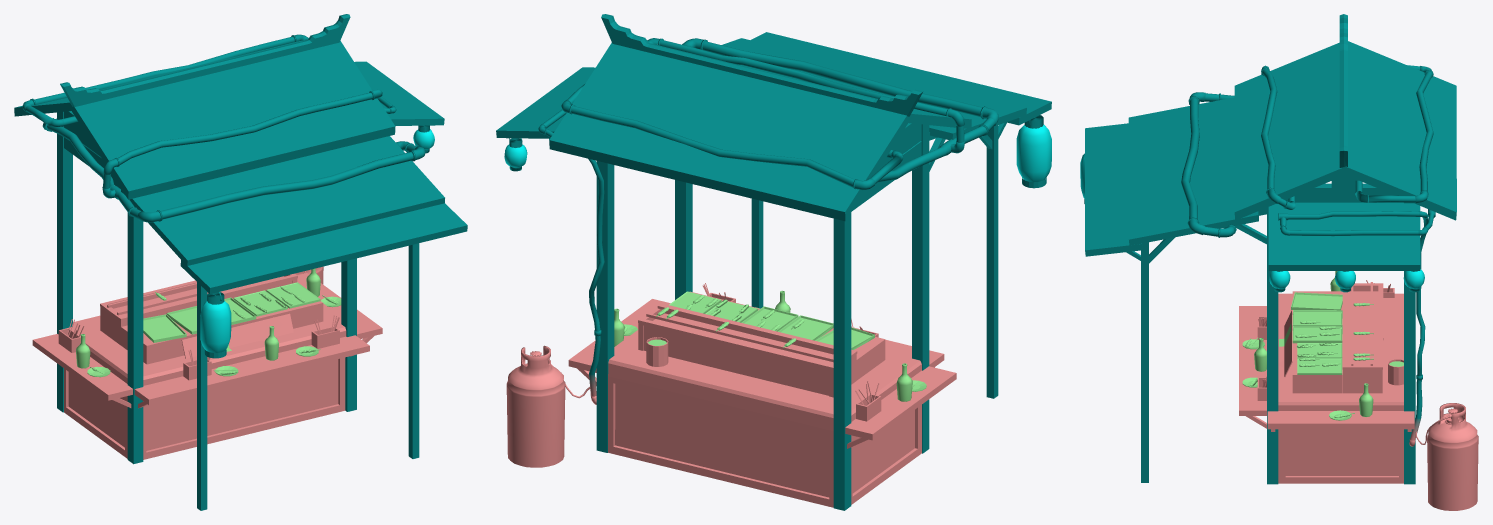
The model's file is SM_ENV_LKNVLD_Stall_E.gltf.
3 views of the same model, side by side, from view 1: azimuth 30°, elevation 25°; view 2: azimuth 150°, elevation 25°; view 3: azimuth 270°, elevation 25° (orthographic). The views are drawn at different scales.
Parts seen in each view (by area): view 1: SM_ENV_LKNVLD_Stall_E; view 2: SM_ENV_LKNVLD_Stall_E; view 3: SM_ENV_LKNVLD_Stall_E.
Part boxes in pixels (<box>): SM_ENV_LKNVLD_Stall_E: <box>14,14,467,510</box>; SM_ENV_LKNVLD_Stall_E: <box>496,14,1051,510</box>; SM_ENV_LKNVLD_Stall_E: <box>1080,14,1478,510</box>.
Size of the model in its own units: 3.83 by 3.81 by 3.94.
